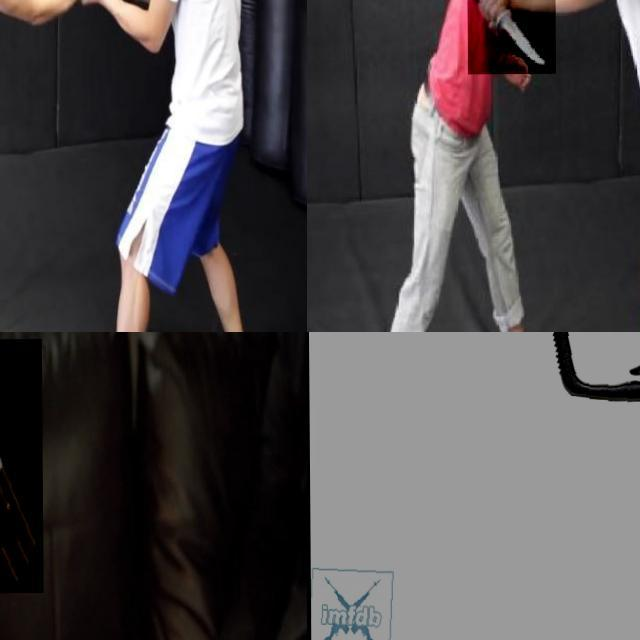-: (466, 0, 555, 74), (78, 0, 150, 21)
gun-knife-thesis - v11 Yolov5 augmented: (307, 332, 640, 640), (0, 339, 70, 594)
